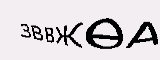А: (126, 19, 160, 50)
В: (31, 24, 44, 42), (44, 26, 56, 44)
Ж: (54, 22, 84, 48)
З: (20, 23, 31, 39)
Ө: (85, 17, 123, 51)
